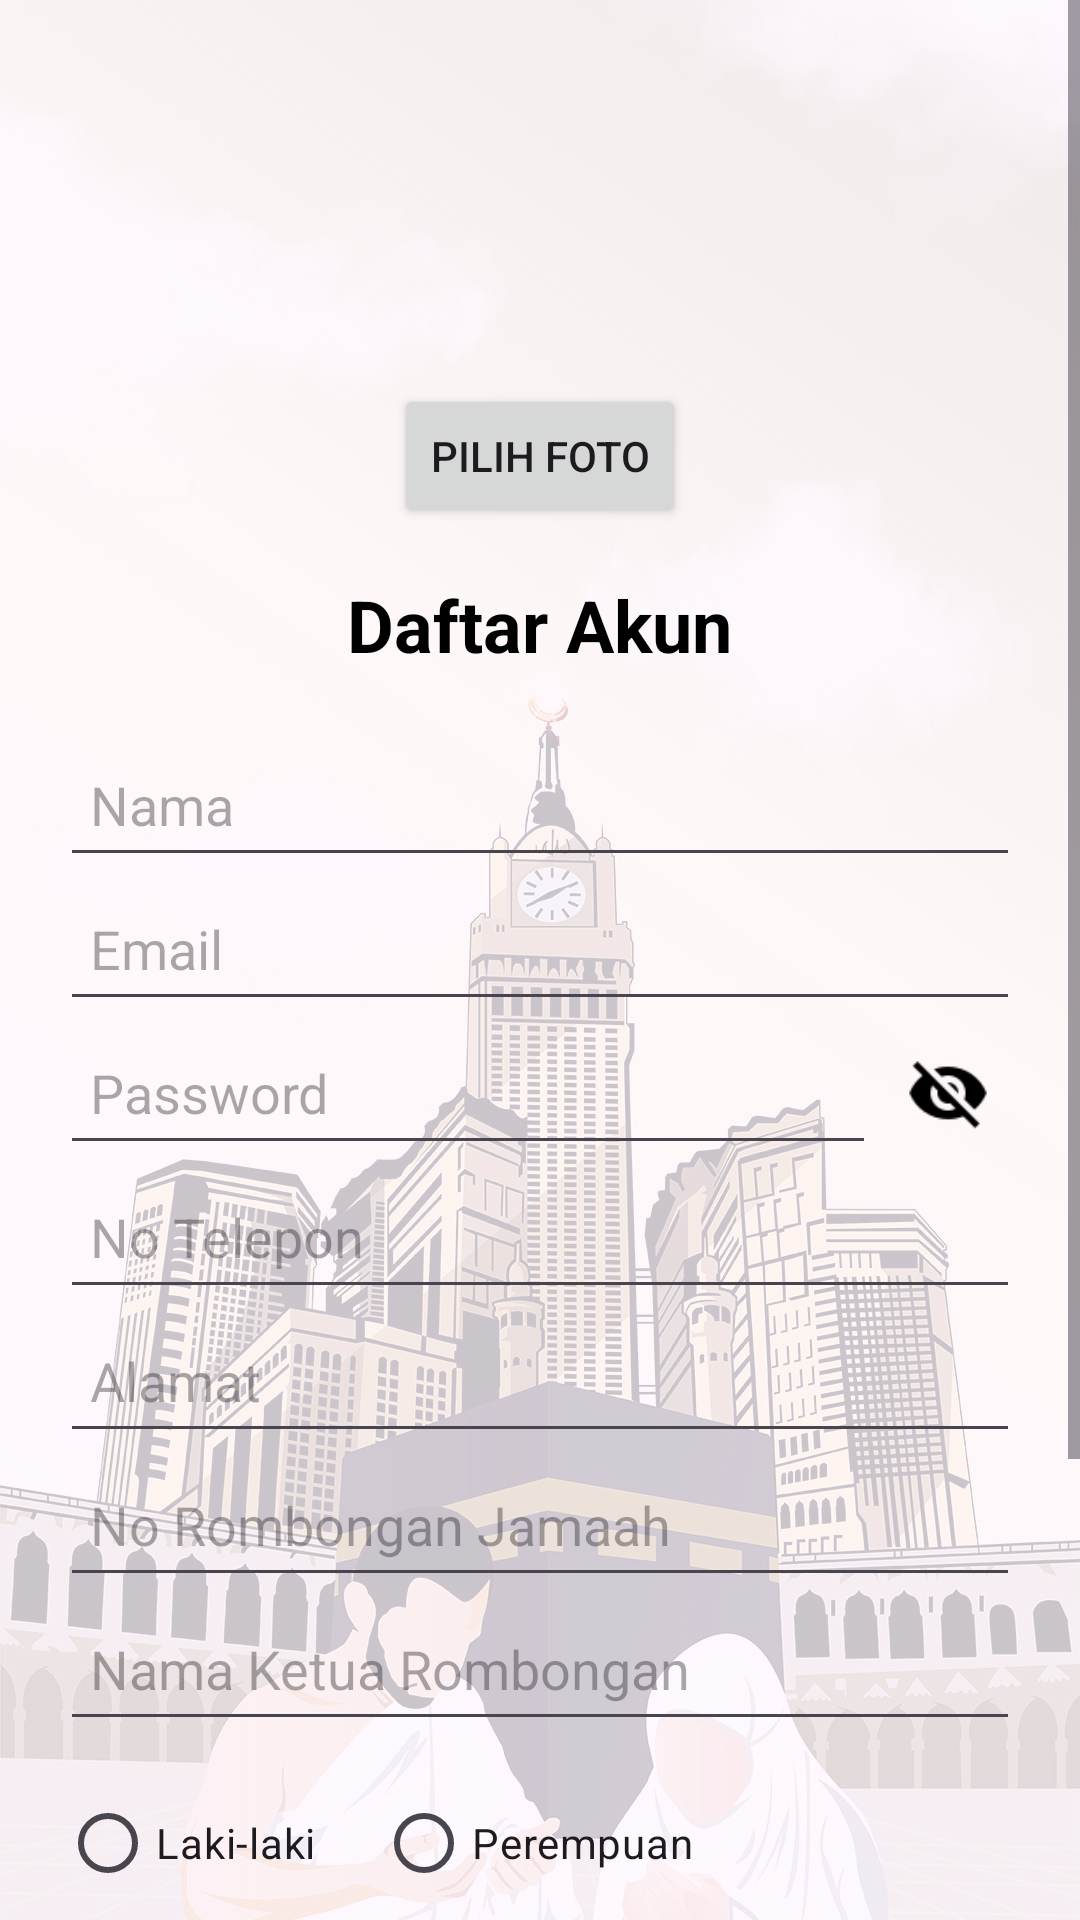

Screen size 1080w x 1920h. Icon name, then its center in pixels as (x,y):
visibility off: (948,1095)
